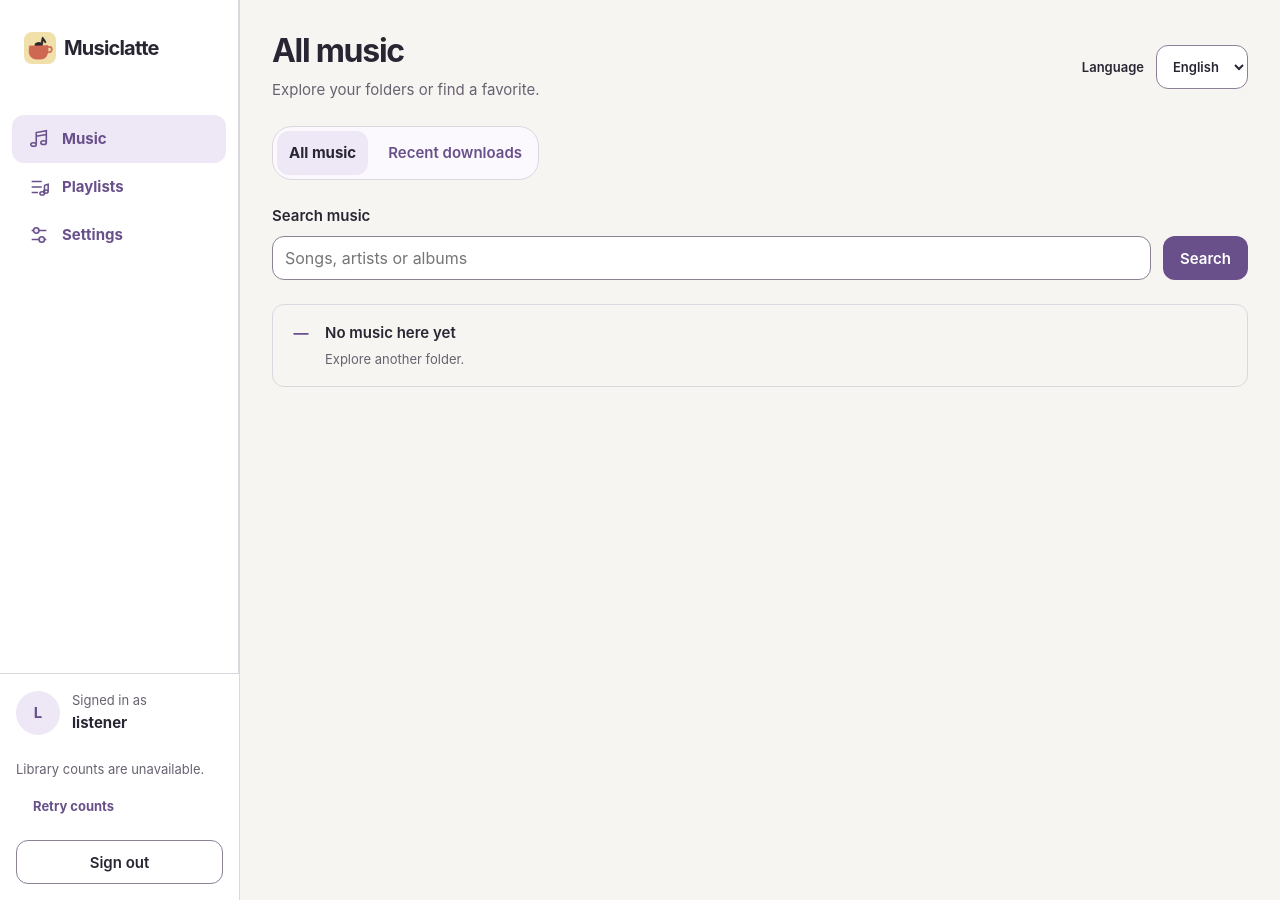
recent route › should navigate from the music entry and default to server seven-day range
Click the link "Recent downloads" at (455, 153), box [388,143,522,162]
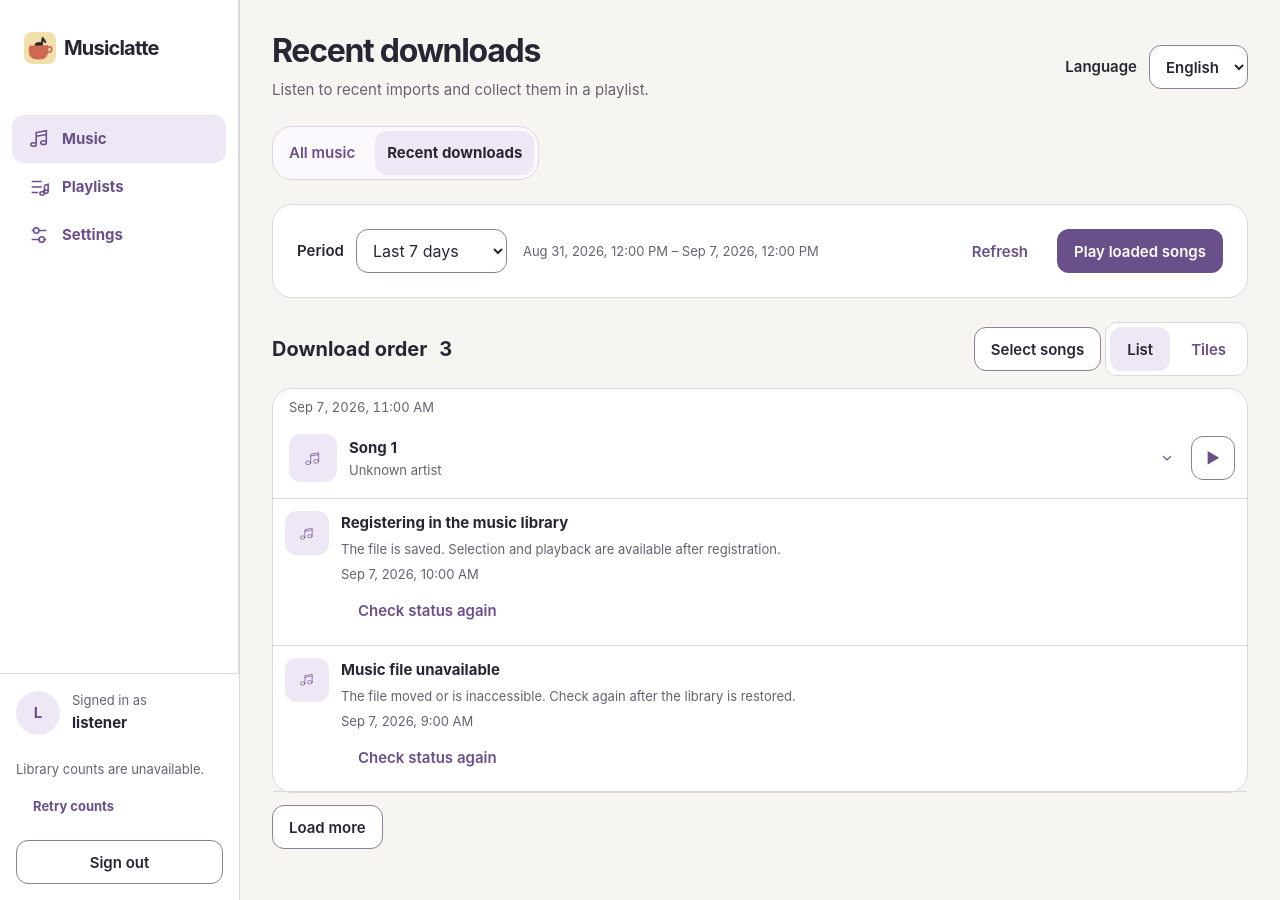
Now the text "Song 1" is shown, box [349,438,397,457]
Now the element named "Recent download controls" is shown, box [272,204,1248,298]
